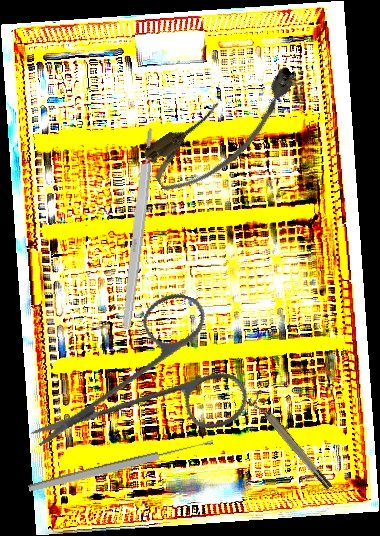Cannula: (138, 57, 315, 203)
Fixation Ring: (246, 391, 334, 495)
Iris Scissors: (28, 262, 273, 505)
Scalpel Handle: (120, 127, 157, 331)
Surgical Spoon: (27, 437, 215, 494)
